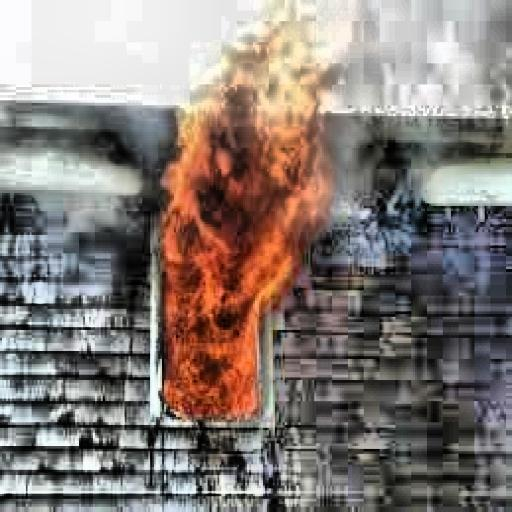fire: (148, 40, 342, 440)
